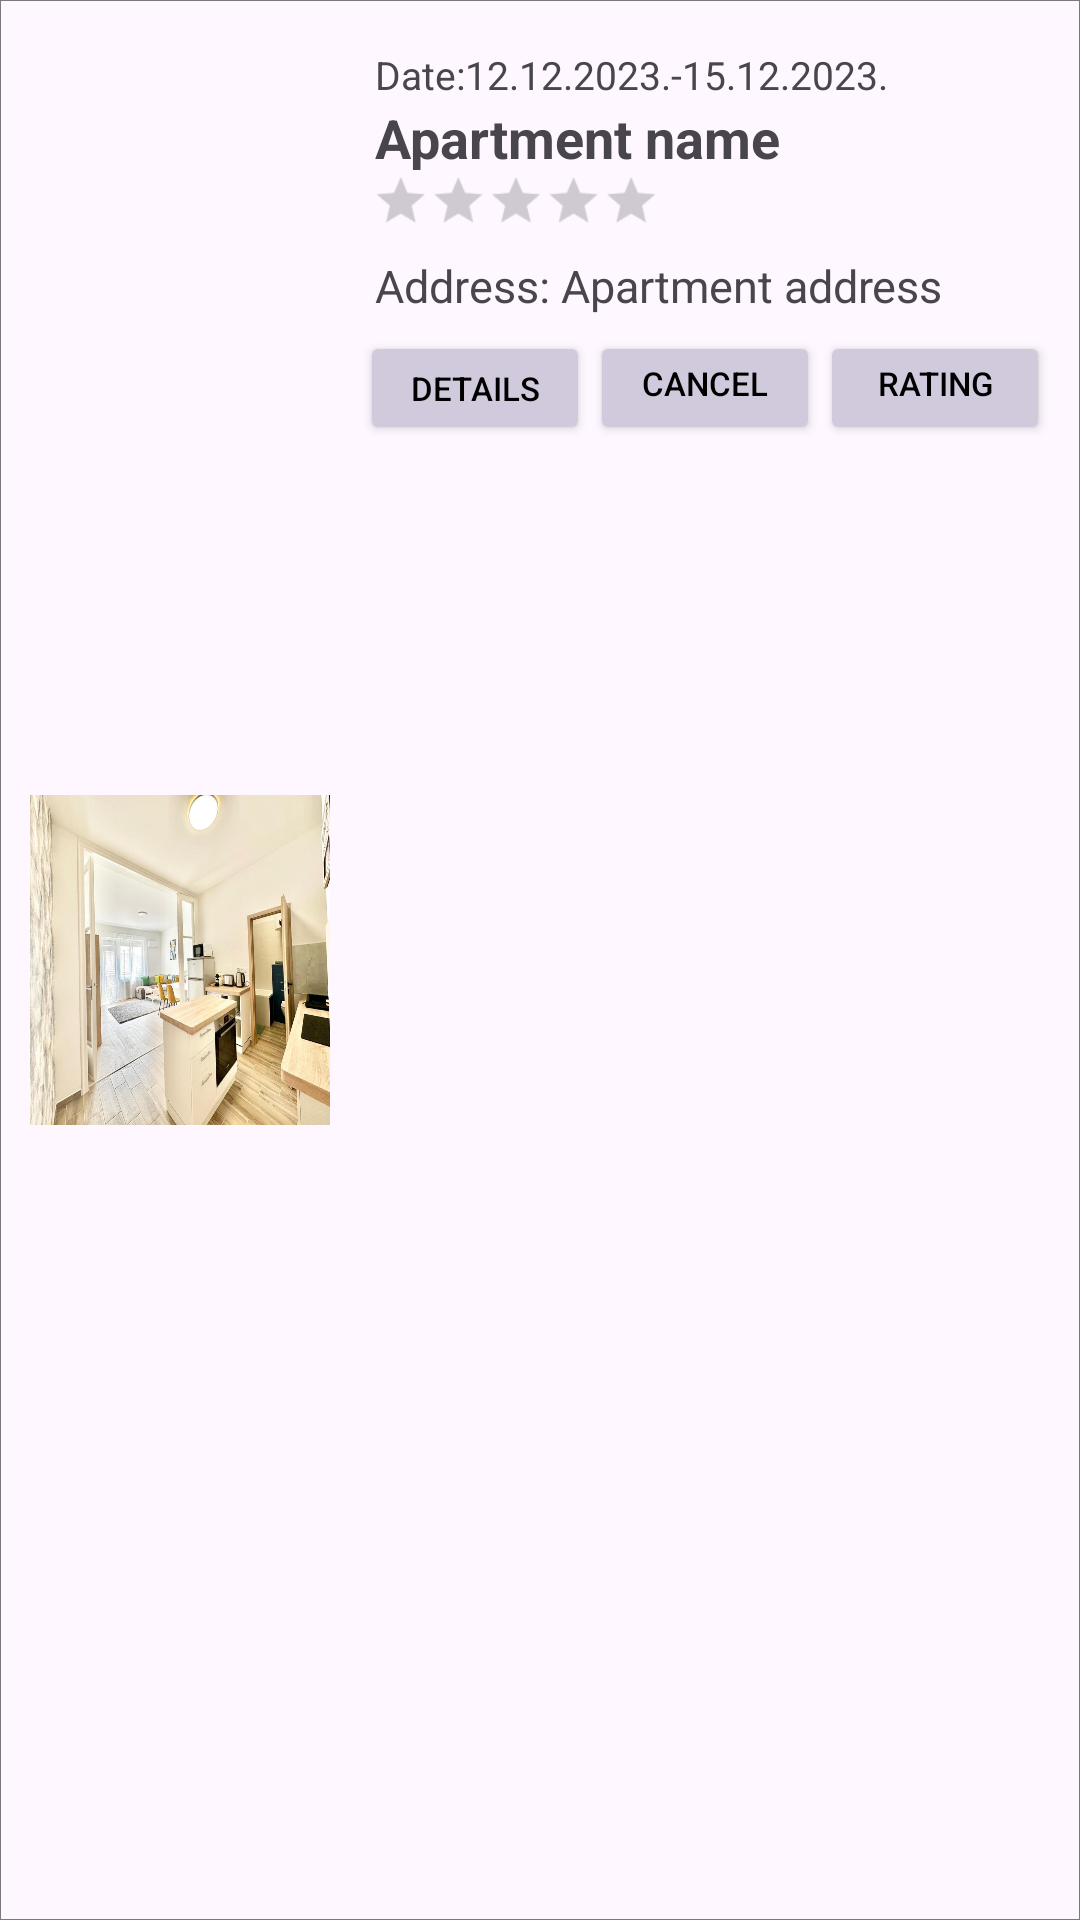

Where icons sit on this 1080x1920 app screen, as (x1, y1, x2, y2):
apartment: (30, 795, 330, 1125)
